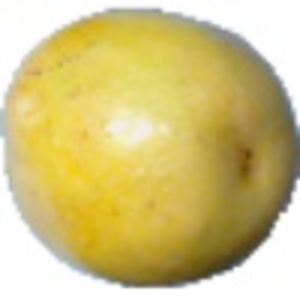maracujá: (1, 1, 300, 290)
